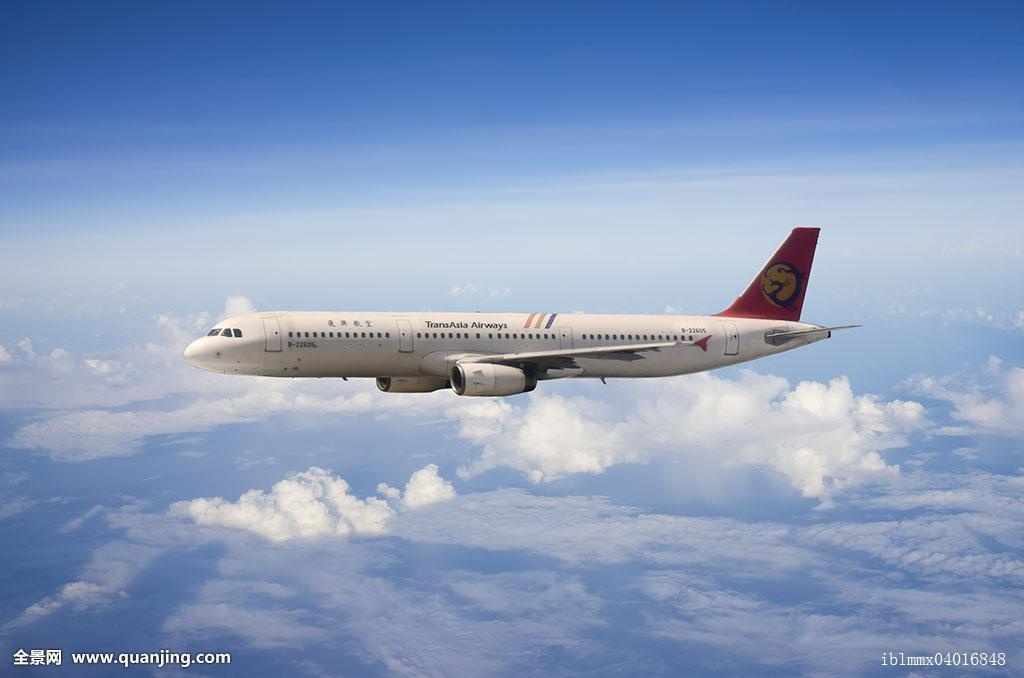airplane: (178, 221, 854, 403)
